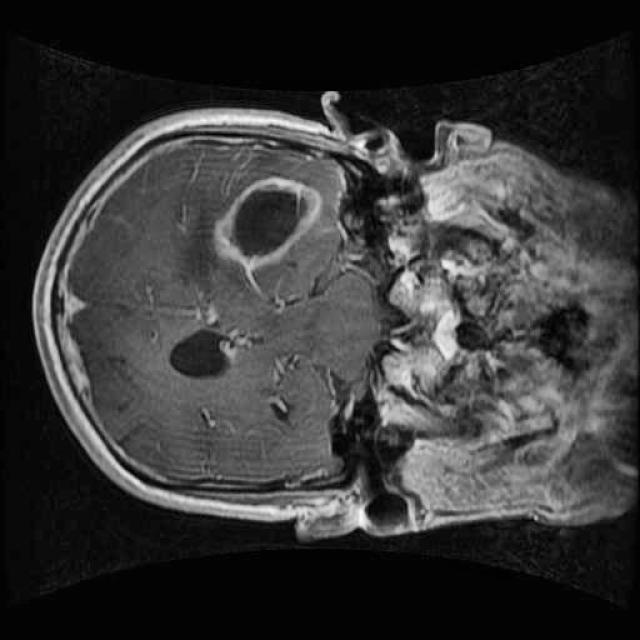Tumor: (205, 162, 334, 279)
